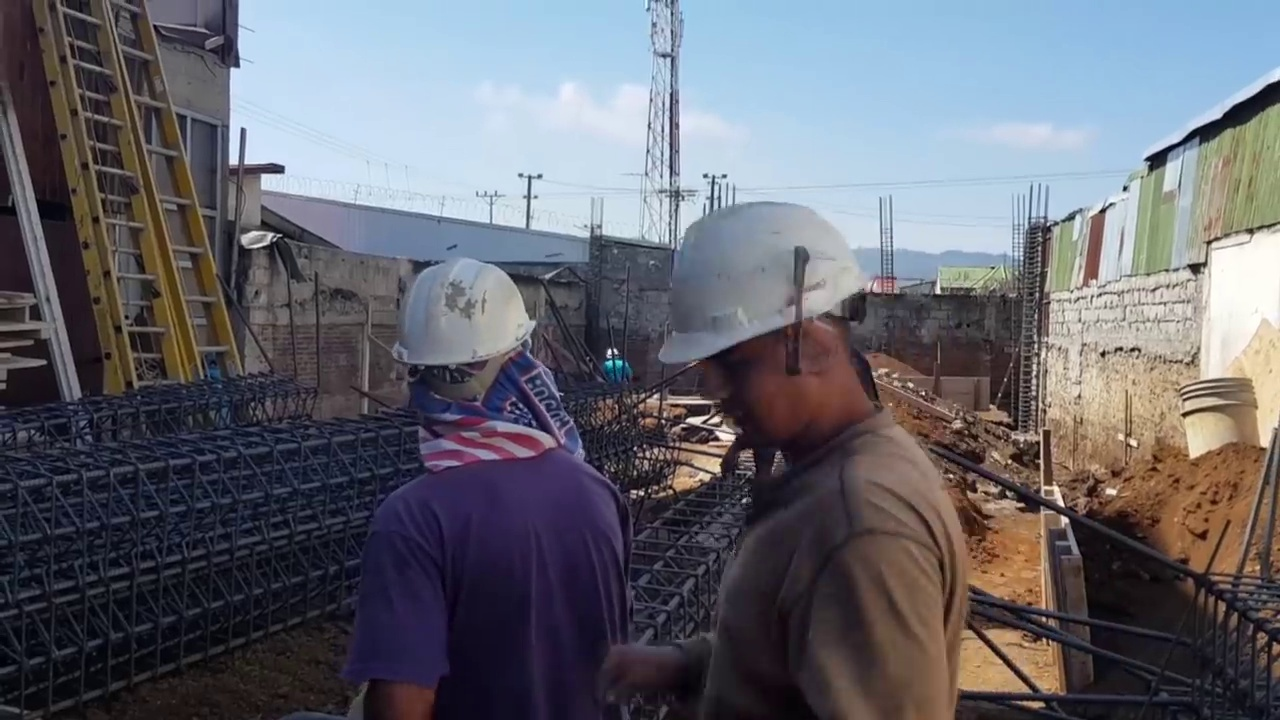helmet: (658, 205, 882, 364), (390, 256, 537, 364), (605, 348, 620, 360)
helmet-on: (658, 200, 895, 466), (391, 245, 555, 466), (605, 348, 620, 364)
person: (638, 215, 973, 720), (346, 244, 629, 718), (602, 347, 630, 385)
